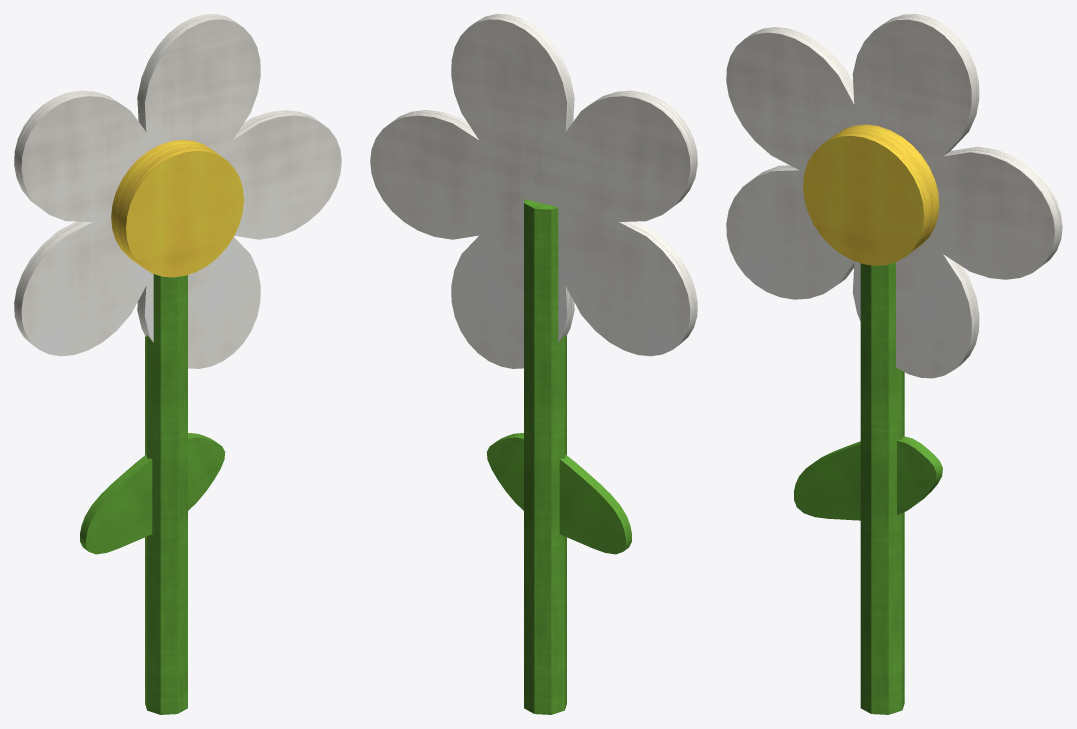
File: flower_white.gltf
The picture shows the model from 3 angles, left to right: view 1: azimuth 30°, elevation 25°; view 2: azimuth 150°, elevation 25°; view 3: azimuth 330°, elevation 25°; orthographic projection. The views are drawn at different scales.
Visible parts, largest first — view 1: flower_white; view 2: flower_white; view 3: flower_white.
Part boxes in pixels (x1=…): flower_white: x1=14, y1=14, x2=341, y2=714; flower_white: x1=370, y1=14, x2=697, y2=714; flower_white: x1=726, y1=14, x2=1062, y2=714.
Size of the model in its own units: 0.2985 by 0.6043 by 0.048.
Materials: 3 (3 with a texture image).
